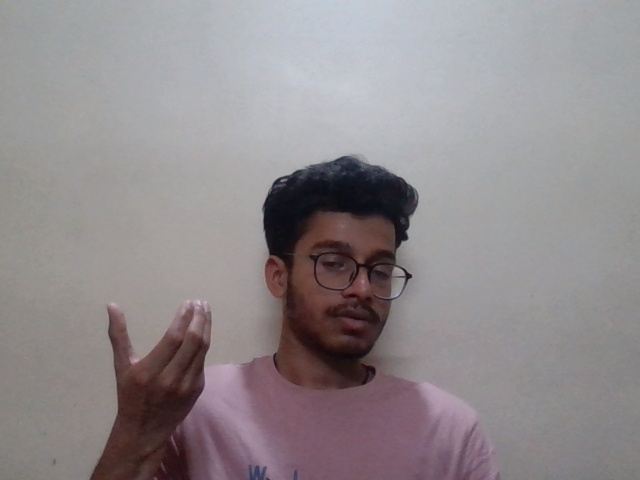U: (105, 288, 214, 417)
